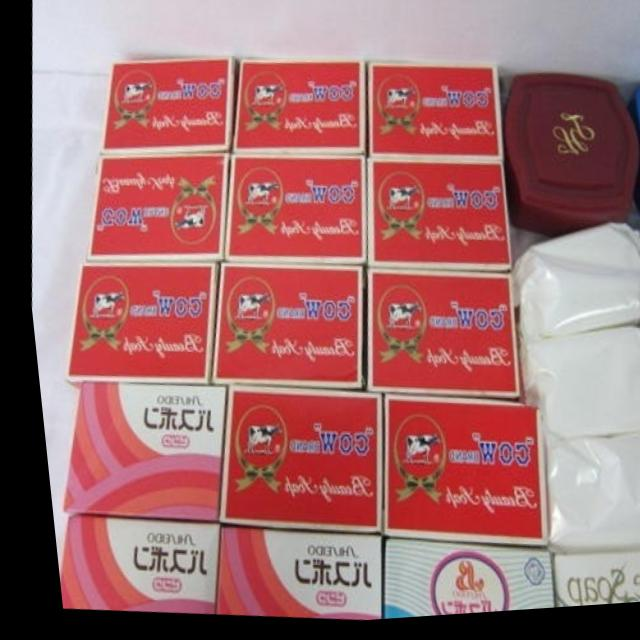box: (209, 385, 372, 536), (371, 400, 534, 551), (49, 382, 217, 524), (357, 271, 510, 403), (203, 263, 356, 395), (60, 262, 212, 394), (216, 154, 362, 271), (360, 161, 505, 276), (201, 528, 370, 624), (47, 515, 207, 616), (80, 154, 225, 263), (371, 541, 539, 623), (365, 66, 498, 167), (227, 63, 363, 158), (96, 61, 232, 154), (539, 559, 640, 614)
